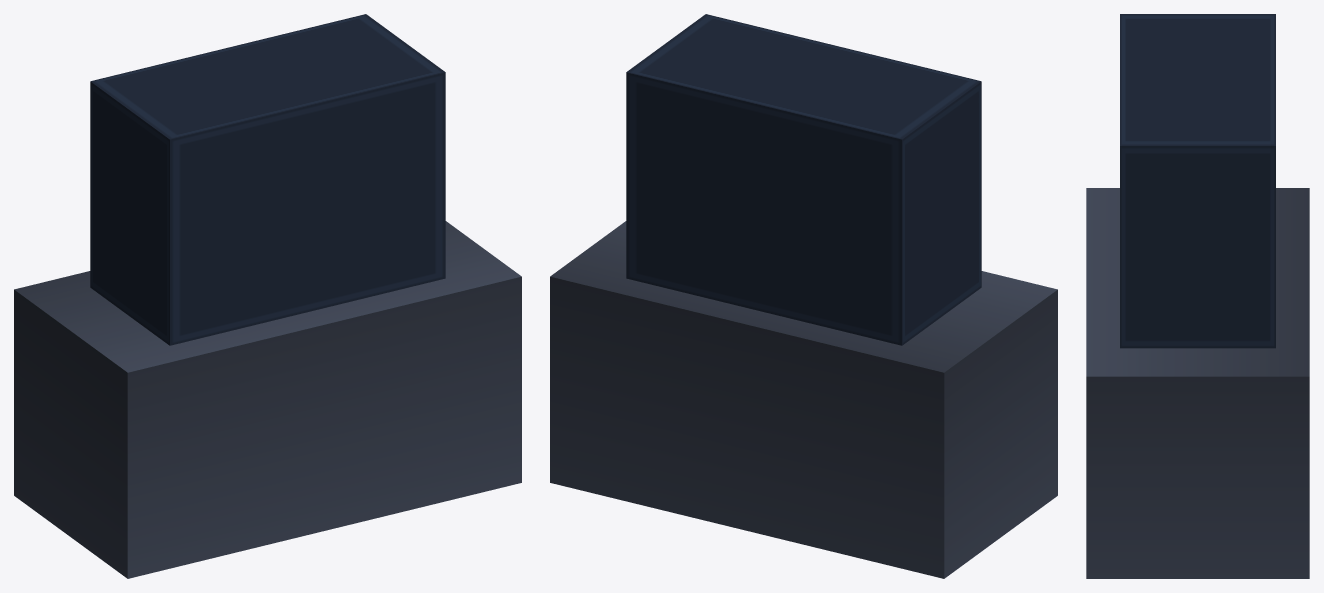
File: KIT_Wall_T_4.glb
3 renders of one model, left to right at view 1: azimuth 30°, elevation 25°; view 2: azimuth 150°, elevation 25°; view 3: azimuth 270°, elevation 25°, orthographic.
Parts seen in each view (by area): view 1: KIT_Wall_T_4; view 2: KIT_Wall_T_4; view 3: KIT_Wall_T_4.
Boxes of the visible parts, bbox=[...] form: KIT_Wall_T_4: bbox=[14, 14, 521, 578]; KIT_Wall_T_4: bbox=[550, 14, 1057, 578]; KIT_Wall_T_4: bbox=[1086, 14, 1309, 578].
Bounding box in the file's own units: 4 × 4 × 2.
Materials: 1 (1 with a texture image).
